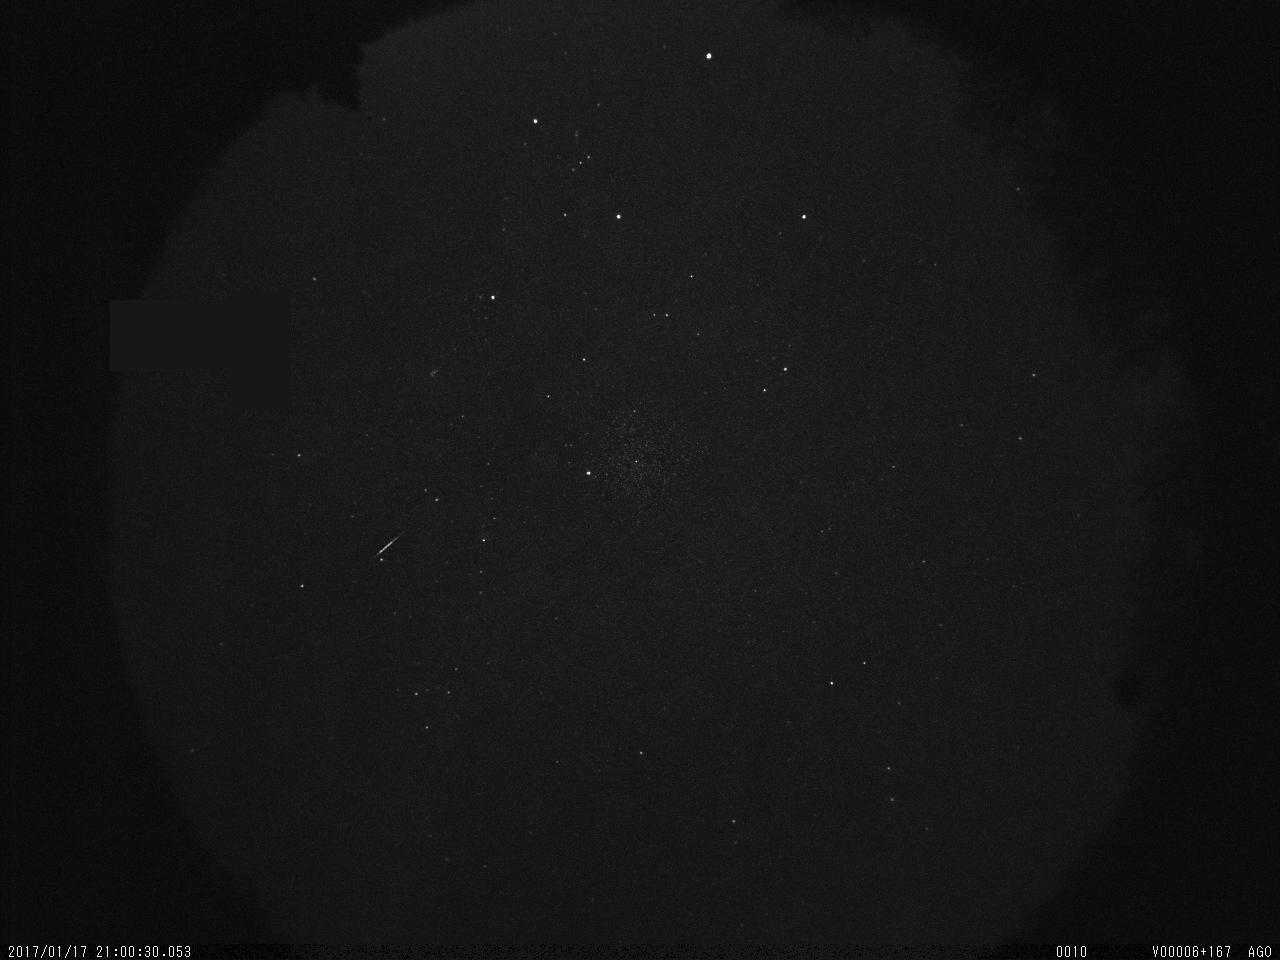meteor: (366, 526, 410, 558)
